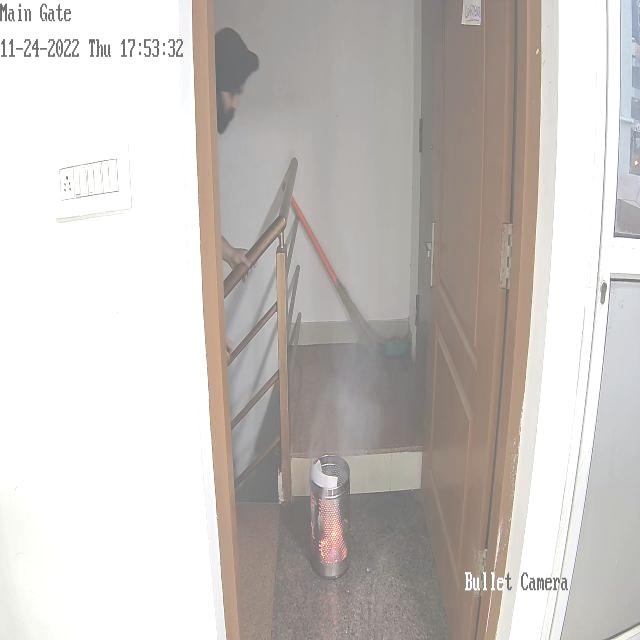fire: (316, 494, 348, 572)
smoke: (318, 368, 372, 459), (358, 320, 399, 389), (313, 158, 345, 228)
